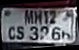character: (28, 25, 38, 41), (23, 9, 33, 24), (15, 25, 24, 40), (33, 9, 42, 24), (7, 26, 15, 40), (42, 9, 49, 25), (48, 10, 56, 24)
